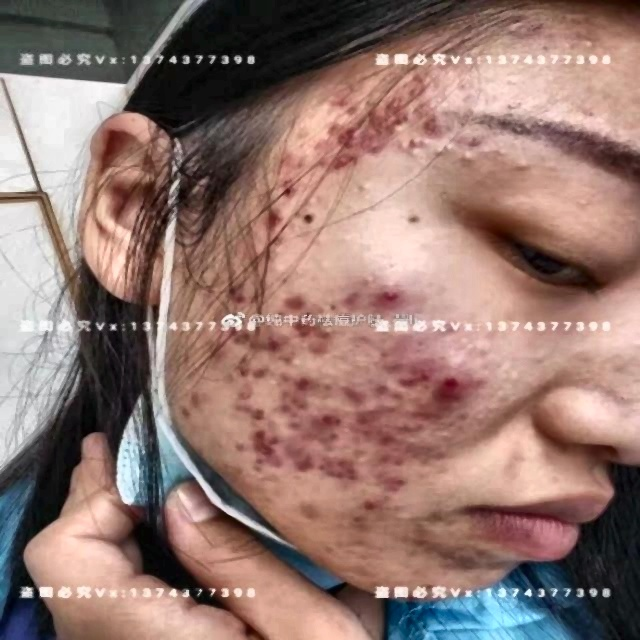nodule: (422, 395, 479, 435), (340, 481, 386, 516), (238, 352, 282, 386), (311, 405, 354, 436), (374, 468, 426, 493), (216, 278, 258, 308), (282, 172, 313, 211), (390, 75, 433, 102), (368, 421, 406, 451), (358, 410, 396, 440), (183, 386, 220, 416), (231, 327, 269, 355), (258, 202, 287, 238), (286, 443, 324, 470), (362, 106, 400, 133), (286, 372, 324, 398), (327, 150, 362, 178), (273, 146, 305, 176), (295, 324, 333, 349), (333, 129, 369, 155), (238, 428, 282, 449), (246, 398, 280, 425), (262, 442, 291, 473), (370, 349, 404, 375), (416, 126, 451, 151), (295, 499, 331, 523), (506, 114, 544, 136), (286, 297, 322, 320), (334, 78, 364, 105), (331, 456, 362, 482), (371, 379, 406, 402), (320, 116, 352, 141), (365, 128, 398, 152), (424, 438, 452, 466), (390, 108, 422, 132), (282, 392, 313, 416), (309, 448, 340, 472), (400, 368, 431, 391), (298, 228, 333, 248), (224, 388, 254, 411), (374, 450, 408, 470), (307, 254, 339, 275), (314, 136, 337, 164), (338, 288, 362, 313), (432, 368, 458, 390), (454, 132, 492, 147), (486, 144, 513, 165), (452, 149, 480, 169), (352, 175, 378, 196), (506, 156, 537, 173), (384, 279, 407, 300), (308, 552, 334, 570), (354, 271, 381, 288), (278, 351, 302, 369), (340, 387, 375, 399), (284, 414, 314, 428), (319, 539, 347, 553), (267, 334, 284, 351)
